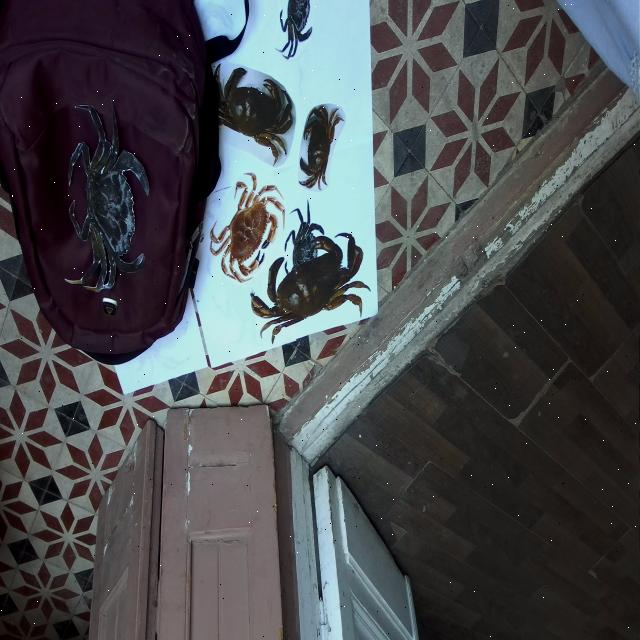European_Green_Crab: (59, 91, 157, 304), (272, 0, 316, 67), (282, 199, 325, 267)
